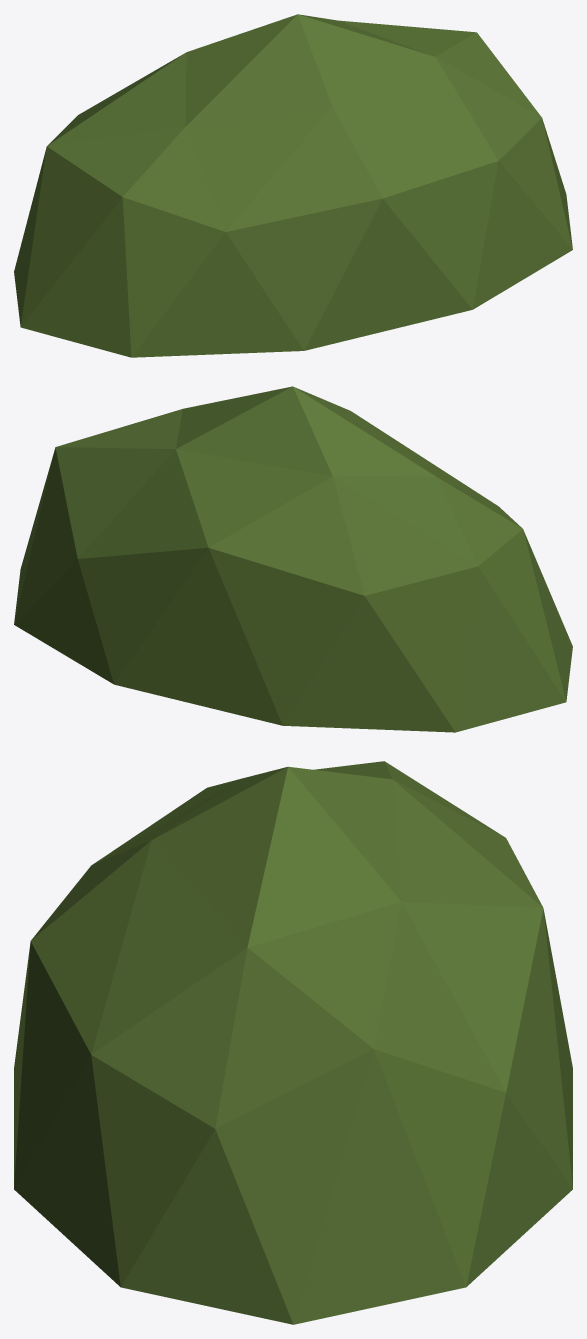
Rendered from Bush1.fbx.
3 renders of one model, top to bottom at view 1: azimuth 30°, elevation 25°; view 2: azimuth 150°, elevation 25°; view 3: azimuth 270°, elevation 25°, orthographic. The views are drawn at different scales.
Visible parts, largest first — view 1: Bush1; view 2: Bush1; view 3: Bush1.
Part boxes in pixels (x1=…): Bush1: x1=14, y1=14, x2=572, y2=357; Bush1: x1=14, y1=386, x2=572, y2=732; Bush1: x1=14, y1=761, x2=572, y2=1324.
Bounding box in the file's own units: 1.76 × 0.7604 × 1.06.
